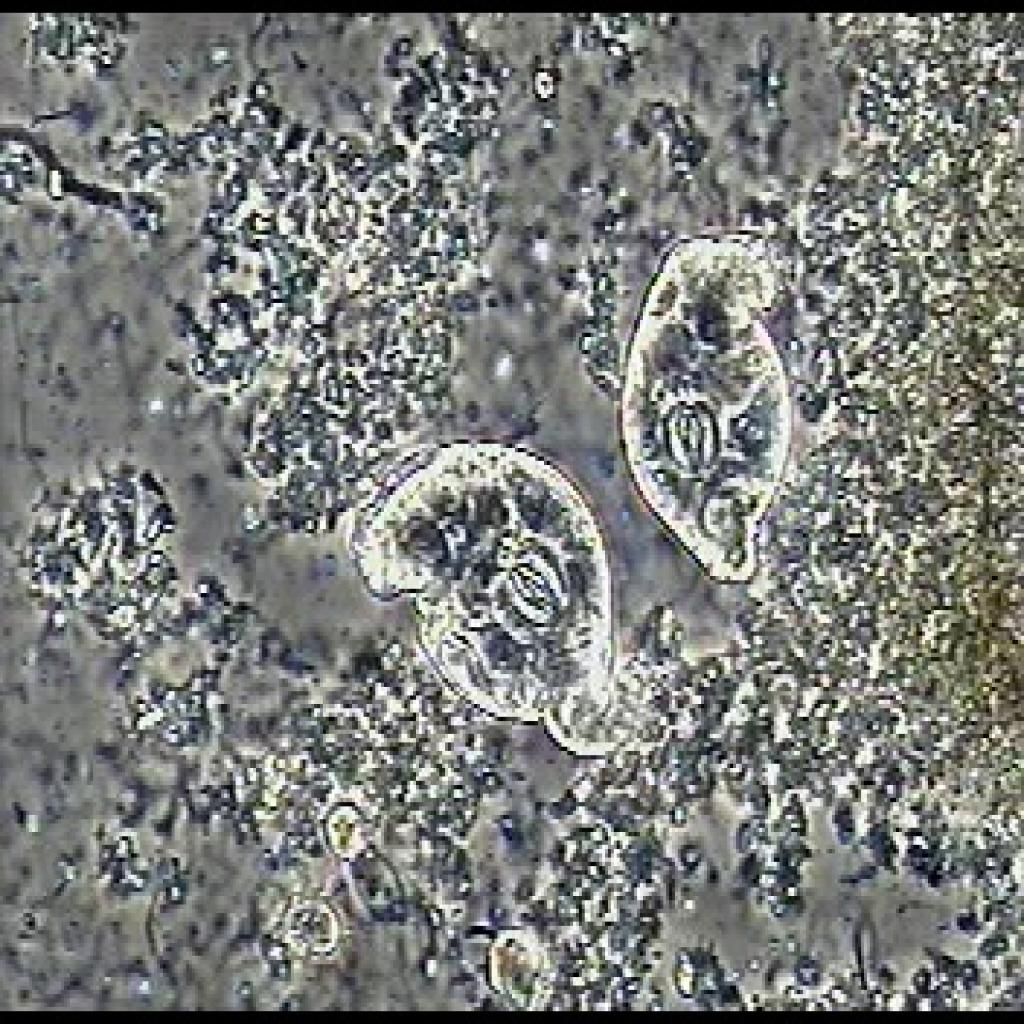Rotatoria: (339, 422, 618, 764), (616, 184, 802, 610)
